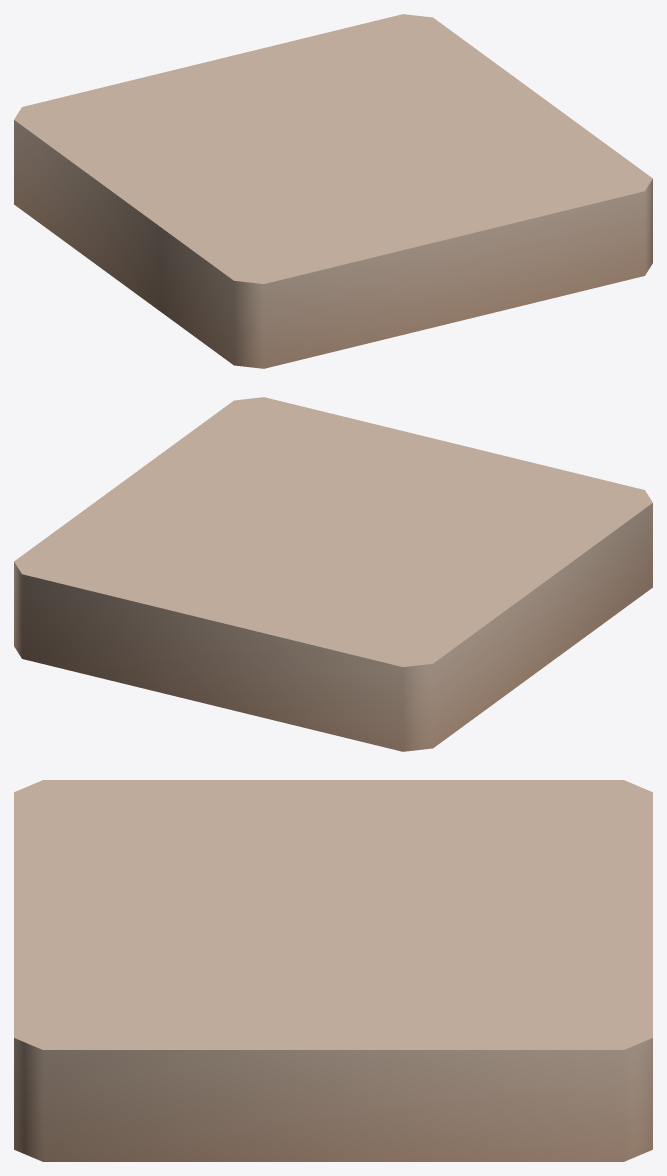
The model's file is roof-flat-top.glb.
3 views of the same model, one above another, from view 1: azimuth 30°, elevation 25°; view 2: azimuth 150°, elevation 25°; view 3: azimuth 270°, elevation 25° (orthographic). The views are drawn at different scales.
Parts seen in each view (by area): view 1: roof-flat-top; view 2: roof-flat-top; view 3: roof-flat-top.
Part boxes in pixels (x1,y1,x2,y2): roof-flat-top: (14, 14, 652, 368); roof-flat-top: (14, 397, 652, 751); roof-flat-top: (14, 780, 652, 1161).
Size of the model in its own units: 1.1 by 0.2125 by 1.1.
